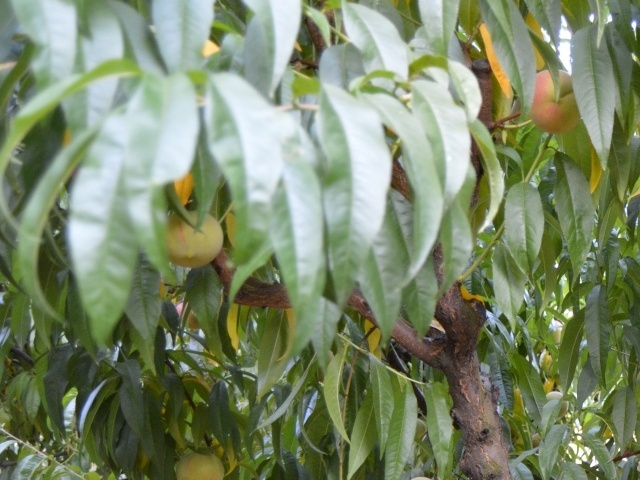peach: (524, 67, 586, 140), (159, 207, 224, 273), (174, 447, 229, 480), (542, 384, 574, 419)
